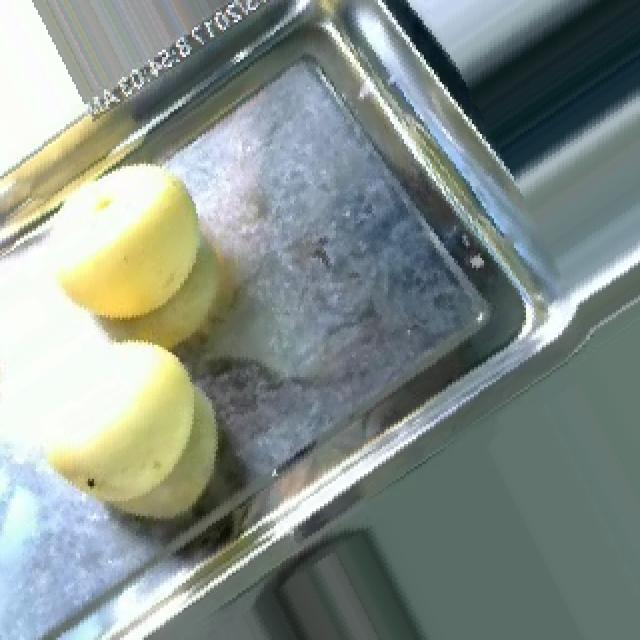Fruit: (28, 325, 242, 538), (34, 154, 224, 342)
